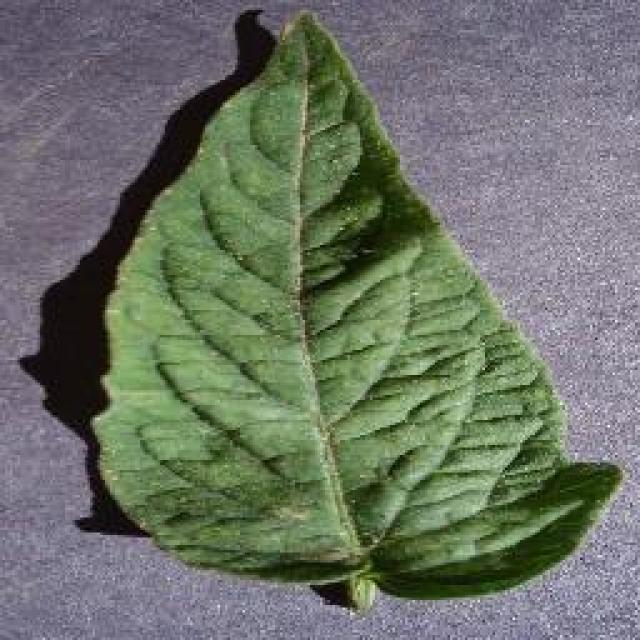Healthy: (72, 0, 638, 640)
